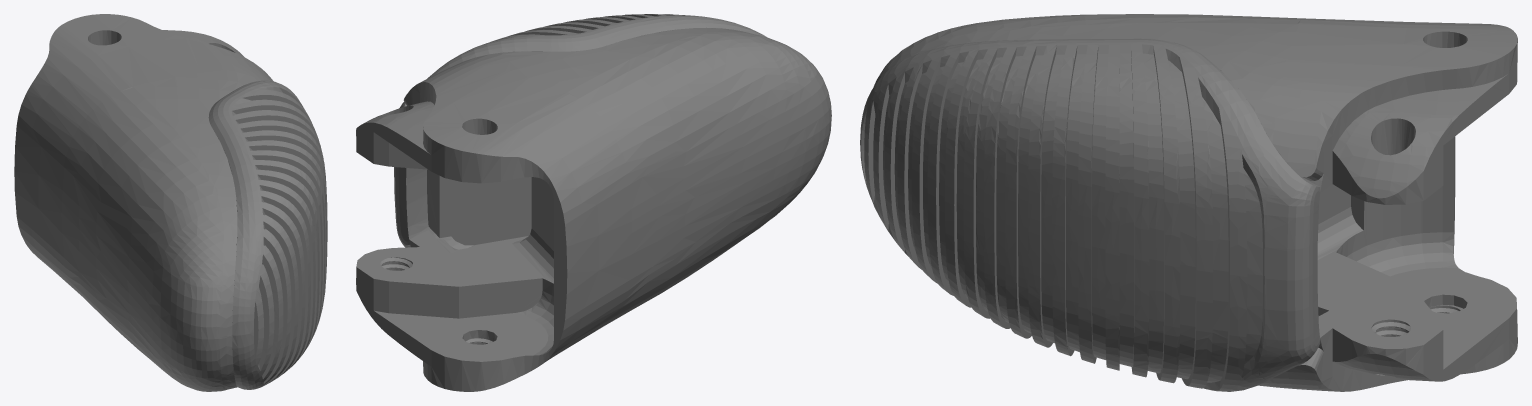
Rendered from rh_index_distal_vis.obj.
3 views of the same model, side by side, from view 1: azimuth 30°, elevation 25°; view 2: azimuth 150°, elevation 25°; view 3: azimuth 270°, elevation 25° (orthographic). The views are drawn at different scales.
Visible parts, largest first — view 1: rh_index_distal; view 2: rh_index_distal; view 3: rh_index_distal.
Boxes of the visible parts, <box> form: rh_index_distal: <box>14,14,327,391</box>; rh_index_distal: <box>356,14,831,391</box>; rh_index_distal: <box>860,14,1517,391</box>.
Size of the model in its own units: 0.0182 by 0.0157 by 0.0295.
1 material, 1 textured.
